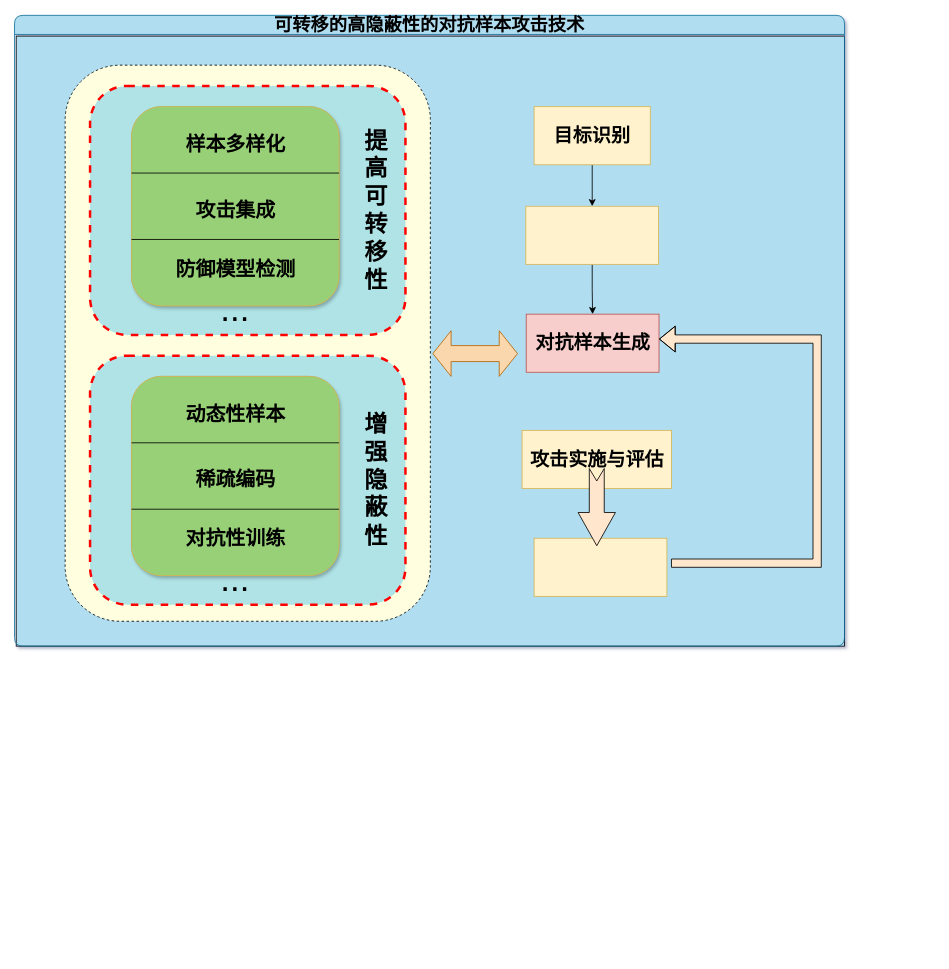
This 949x969 diagram has some shape labels left out. Here are the shapes that lost their labels. From the top down, the centre of each, then its label:
(592,234): 模型缺陷分析
(600,566): 迭代优化
